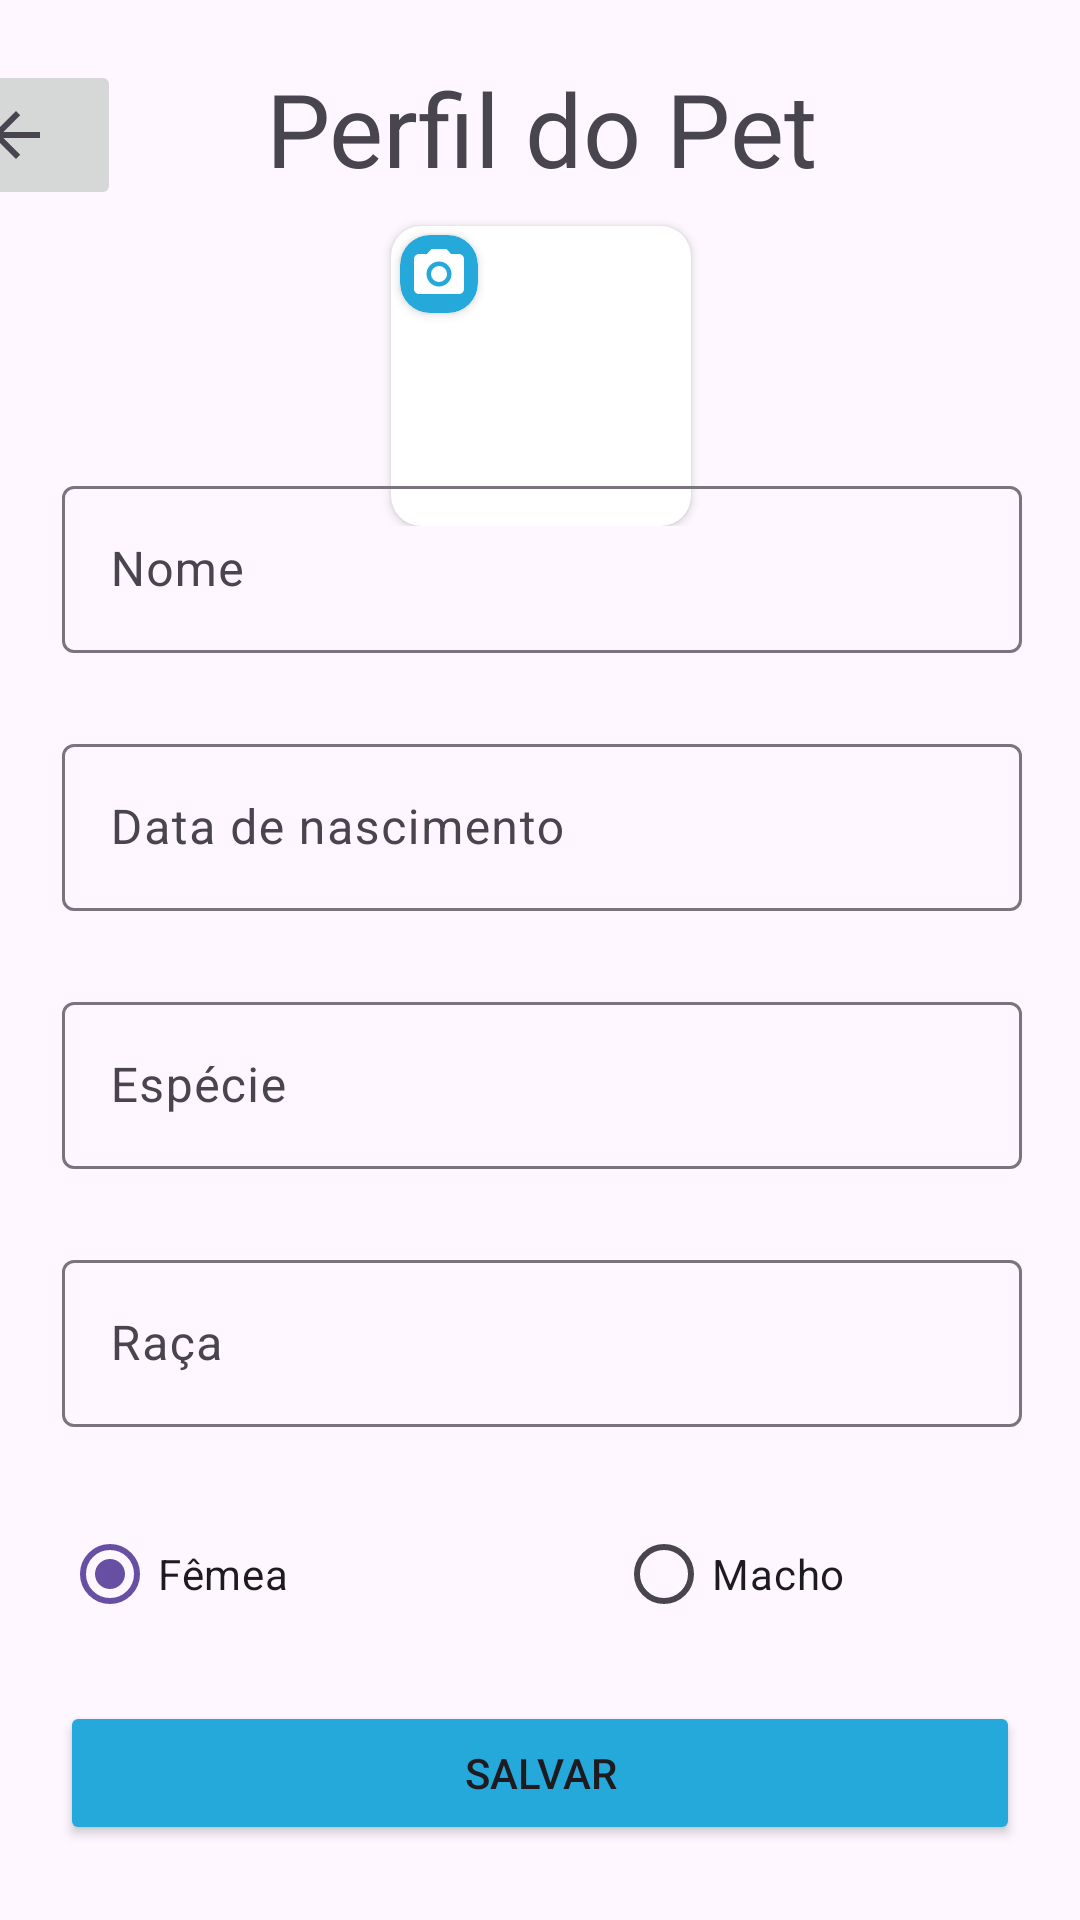

Locate icon controls on the screen. Image size 1080x1920, boxes as (x1, y1, x2, y2).
photo camera: (414, 249, 464, 294)
